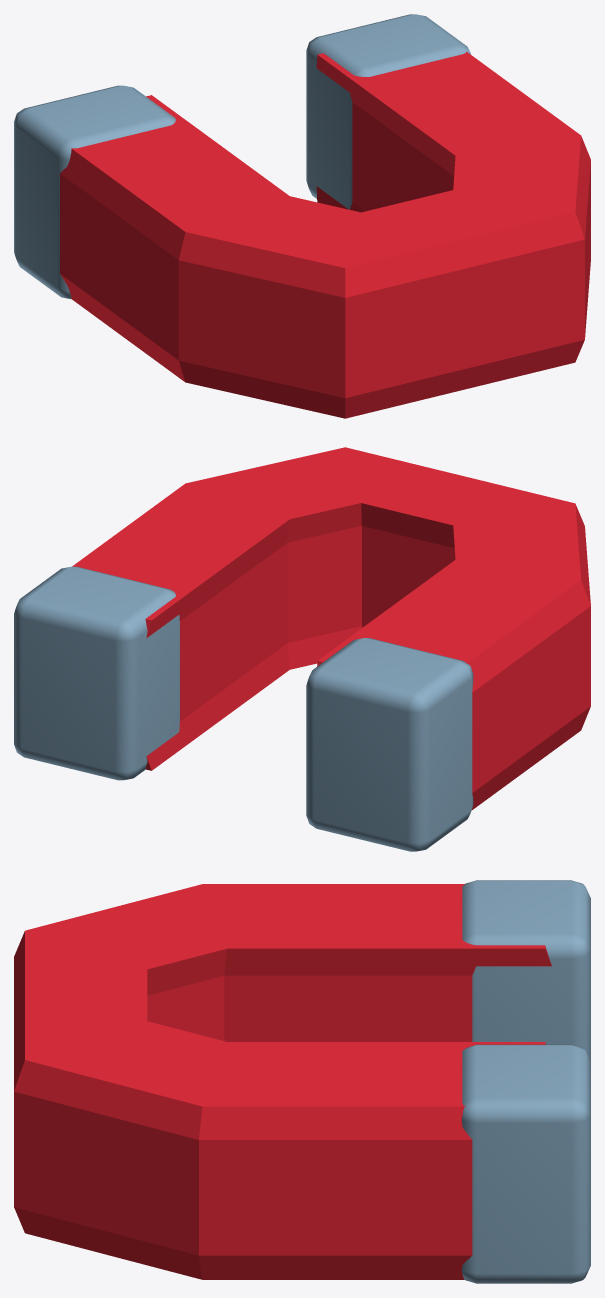
The model's file is Power_Magnet.fbx.
The picture shows the model from 3 angles, top to bottom: view 1: azimuth 30°, elevation 25°; view 2: azimuth 150°, elevation 25°; view 3: azimuth 270°, elevation 25°; orthographic projection. The views are drawn at different scales.
Visible parts, largest first — view 1: Magnet_U, Magnet_tip, Magnet_tip.001; view 2: Magnet_U, Magnet_tip, Magnet_tip.001; view 3: Magnet_U, Magnet_tip.001, Magnet_tip.
Part boxes in pixels (x1=…): Magnet_U: x1=60, y1=52, x2=590, y2=418; Magnet_tip: x1=14, y1=85, x2=175, y2=299; Magnet_tip.001: x1=306, y1=14, x2=471, y2=209; Magnet_U: x1=72, y1=447, x2=590, y2=810; Magnet_tip: x1=306, y1=638, x2=473, y2=851; Magnet_tip.001: x1=14, y1=566, x2=179, y2=780; Magnet_U: x1=14, y1=884, x2=551, y2=1279; Magnet_tip.001: x1=461, y1=1044, x2=590, y2=1283; Magnet_tip: x1=462, y1=880, x2=590, y2=1061.
Bounding box in the file's own units: 86.5 × 32 × 90.5.
